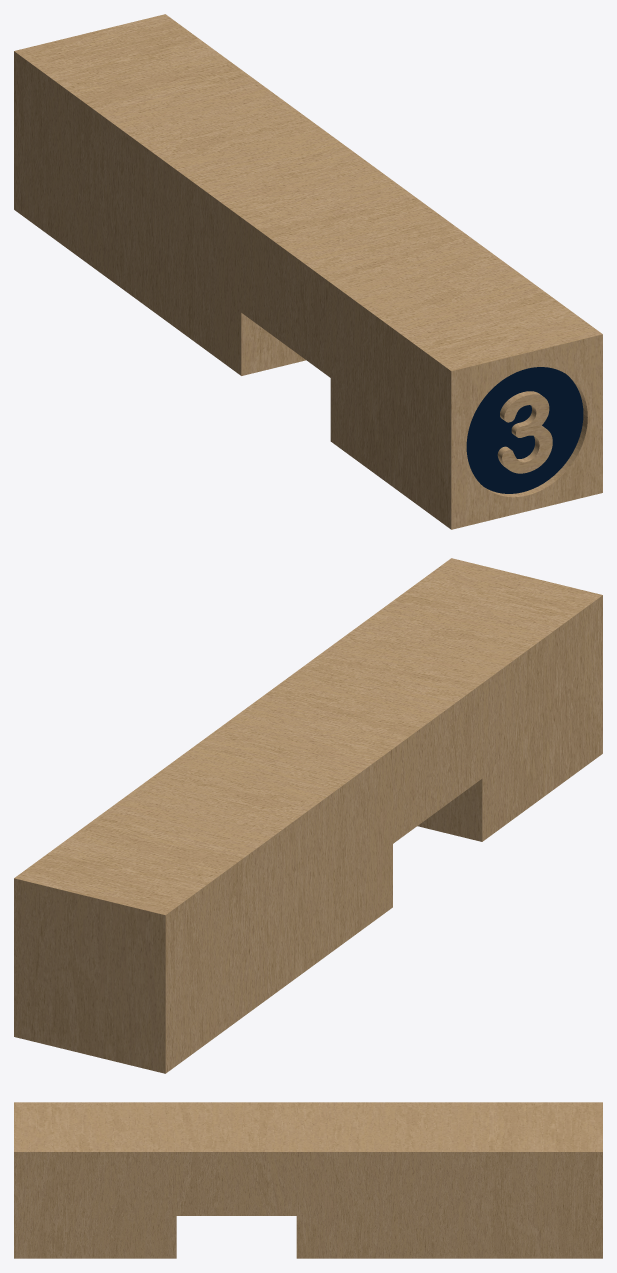
Rendered from Piece3.glb.
The picture shows the model from 3 angles, top to bottom: view 1: azimuth 30°, elevation 25°; view 2: azimuth 150°, elevation 25°; view 3: azimuth 270°, elevation 25°; orthographic projection. The views are drawn at different scales.
Visible parts, largest first — view 1: Piece3; view 2: Piece3; view 3: Piece3.
Boxes of the visible parts, x1,y1,x2,y2 form: Piece3: (14, 14, 602, 529); Piece3: (14, 558, 602, 1073); Piece3: (14, 1102, 602, 1258).
Size of the model in its own units: 10 by 10 by 50.
2 materials, 1 textured.
